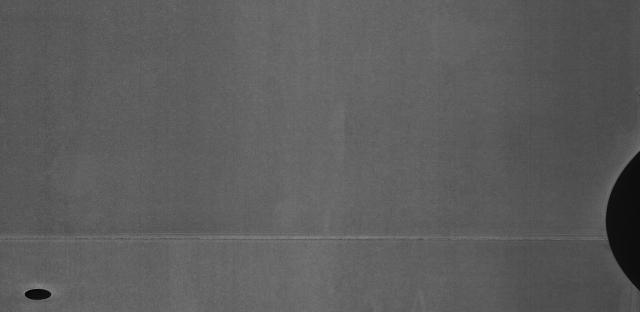punching_hole: (19, 283, 58, 303)
welding_line: (1, 229, 606, 249)
